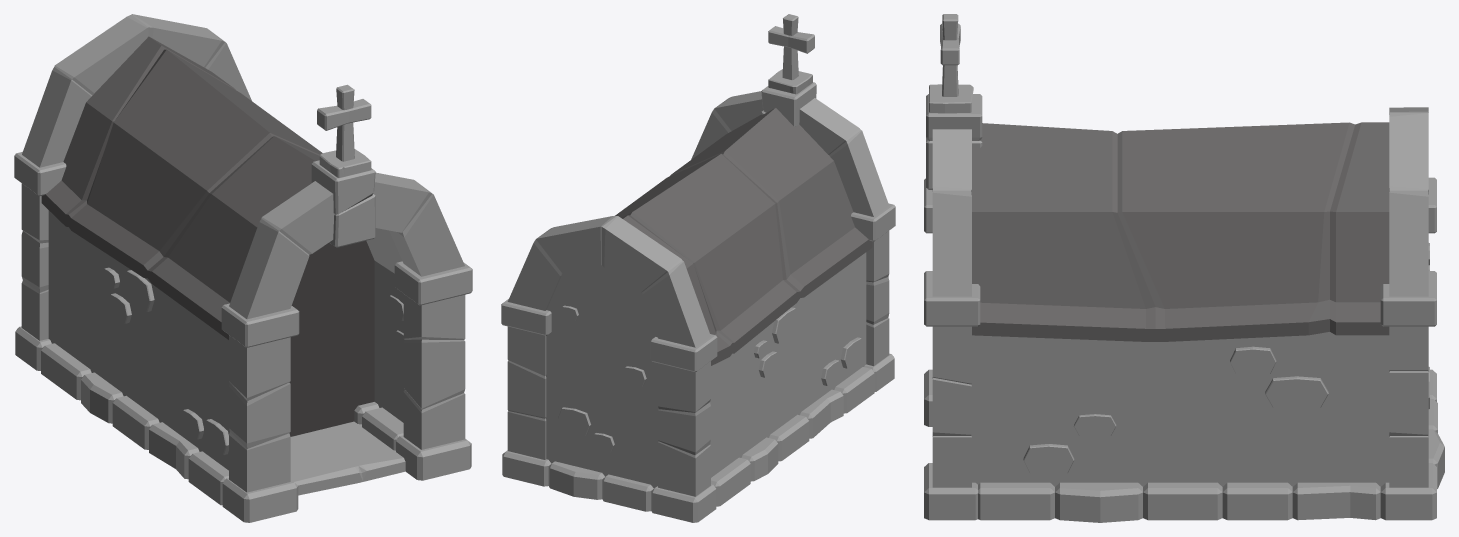
Rendered from Isl_1_Tomb_1.fbx.
3 views of the same model, side by side, from view 1: azimuth 30°, elevation 25°; view 2: azimuth 150°, elevation 25°; view 3: azimuth 270°, elevation 25° (orthographic). The views are drawn at different scales.
Visible parts, largest first — view 1: Isl_1_Tomb_1; view 2: Isl_1_Tomb_1; view 3: Isl_1_Tomb_1.
Part boxes in pixels (<box>): Isl_1_Tomb_1: <box>14,14,472,522</box>; Isl_1_Tomb_1: <box>501,14,895,522</box>; Isl_1_Tomb_1: <box>924,14,1444,522</box>.
Size of the model in its own units: 359 by 622 by 581.
Materials: 1 (1 with a texture image).
